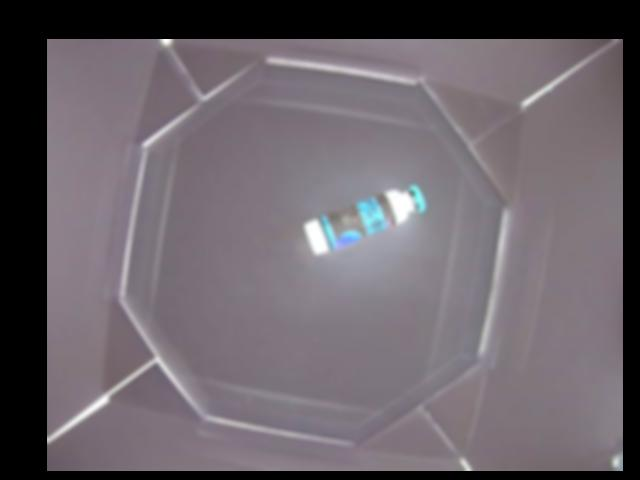Medicine: (302, 183, 426, 255)
